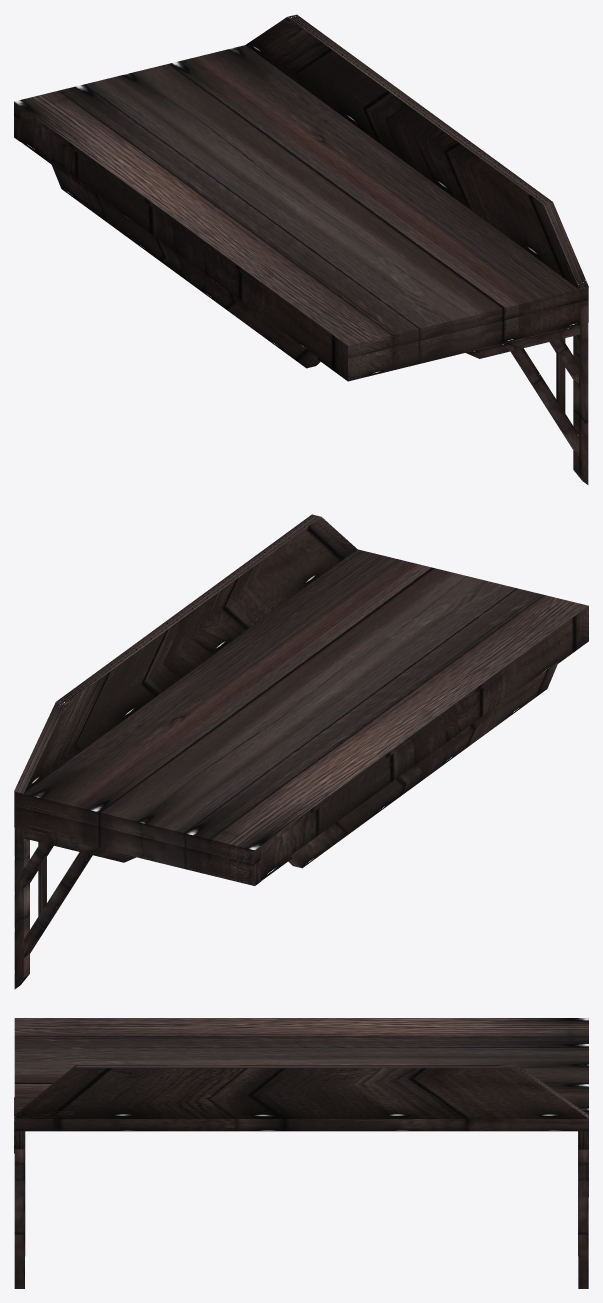
The model's file is shelf1final.fbx.
The picture shows the model from 3 angles, top to bottom: view 1: azimuth 30°, elevation 25°; view 2: azimuth 150°, elevation 25°; view 3: azimuth 270°, elevation 25°; orthographic projection. The views are drawn at different scales.
Visible parts, largest first — view 1: pCube25; view 2: pCube25; view 3: pCube25.
Boxes of the visible parts, left/top/right/bottom form: pCube25: left=14, top=14, right=588, bottom=484; pCube25: left=14, top=514, right=588, bottom=989; pCube25: left=14, top=1018, right=588, bottom=1288.
Size of the model in its own units: 1.65 by 1.68 by 3.97.
